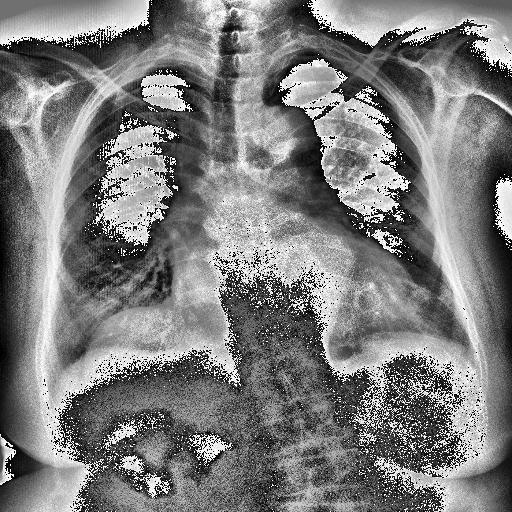0- Aortic enlargement: (146, 123, 363, 200), (167, 108, 344, 192), (244, 100, 330, 204)
3- Cardiomegaly: (136, 232, 428, 350), (142, 229, 426, 326)
7- Lung Opacity: (324, 285, 480, 366)
9- Other lesion: (43, 291, 222, 392), (25, 298, 183, 395)
